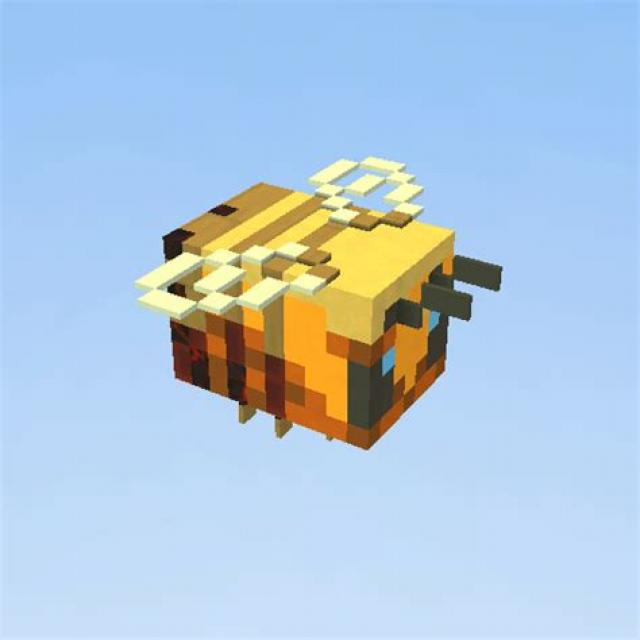Bee: (132, 154, 506, 450)
